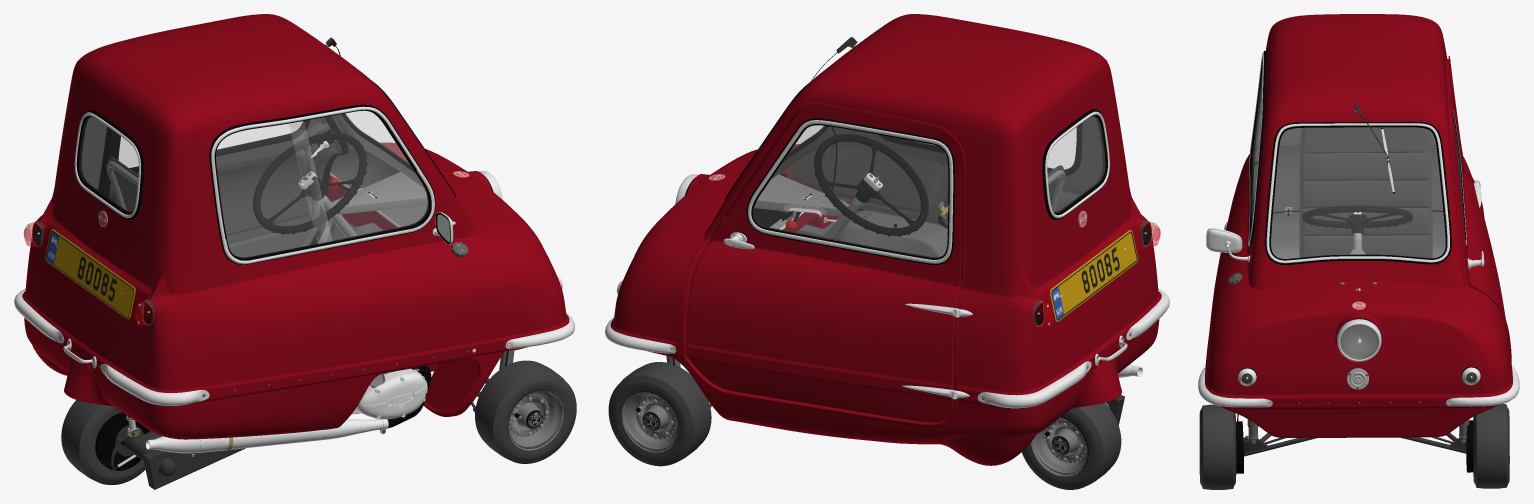
File: car.glb
The picture shows the model from 3 angles, left to right: view 1: azimuth 30°, elevation 25°; view 2: azimuth 150°, elevation 25°; view 3: azimuth 270°, elevation 25°; orthographic projection. The views are drawn at different scales.
Parts seen in each view (by area): view 1: body_a.002_42, peel side window glass _13, doorcardlf_a_33, overheadconsole_a_18, tirel_vintage_firestone_race.001_4, dashpad_a.001_34, glassr_a.001_23, steeringwheel_a.002_11, suspension_a_10, tirel_vintage_firestone_race.002_3, fplateeu_a_28, engine_a__slod_30 (+9 smaller); view 2: body_a.002_42, doorcardlf_a_33, doorcardlf_a.005_32, overheadconsole_a_18, tirel_vintage_firestone_race_5, dashpad_a.001_34, glassr_a.001_23, tirel_vintage_firestone_race.002_3, steeringwheel_a.002_11, fplateeu_a_28, pee_p50_62_wheellf02.001_16, pee_p50_62_wheellf02.003_14 (+5 smaller); view 3: body_a.002_42, glassf_a.002_26, seatl_a.002_12, overheadconsole_a_18, doorcardlf_a_33, tirel_vintage_firestone_race.001_4, tirel_vintage_firestone_race_5, steeringwheel_a.002_11, bumperf_a.002_37, suspension_a_10, headlightl_a.002_21, glasslhl_a.002_25 (+5 smaller).
Part boxes in pixels (<box>): body_a.002_42: <box>22,14,569,439</box>; peel side window glass _13: <box>216,111,428,257</box>; doorcardlf_a_33: <box>108,117,341,257</box>; overheadconsole_a_18: <box>79,113,428,258</box>; tirel_vintage_firestone_race.001_4: <box>475,360,576,463</box>; dashpad_a.001_34: <box>319,172,427,237</box>; glassr_a.001_23: <box>79,117,138,211</box>; steeringwheel_a.002_11: <box>253,132,367,234</box>; suspension_a_10: <box>111,350,514,489</box>; tirel_vintage_firestone_race.002_3: <box>61,400,150,484</box>; fplateeu_a_28: <box>45,229,135,319</box>; engine_a__slod_30: <box>352,365,431,427</box>; body_a.002_42: <box>610,14,1161,465</box>; doorcardlf_a_33: <box>686,108,961,422</box>; doorcardlf_a.005_32: <box>753,125,947,257</box>; overheadconsole_a_18: <box>771,116,1105,257</box>; tirel_vintage_firestone_race_5: <box>608,362,711,466</box>; dashpad_a.001_34: <box>754,168,861,239</box>; glassr_a.001_23: <box>1047,116,1105,212</box>; tirel_vintage_firestone_race.002_3: <box>1021,403,1121,489</box>; steeringwheel_a.002_11: <box>813,134,928,236</box>; fplateeu_a_28: <box>1050,229,1137,321</box>; pee_p50_62_wheellf02.001_16: <box>622,391,678,452</box>; pee_p50_62_wheellf02.003_14: <box>1031,416,1088,476</box>; body_a.002_42: <box>1205,14,1512,437</box>; glassf_a.002_26: <box>1271,127,1445,258</box>; seatl_a.002_12: <box>1299,127,1432,258</box>; overheadconsole_a_18: <box>1251,75,1445,258</box>; doorcardlf_a_33: <box>1453,109,1505,318</box>; tirel_vintage_firestone_race.001_4: <box>1199,404,1236,489</box>; tirel_vintage_firestone_race_5: <box>1473,404,1509,488</box>; steeringwheel_a.002_11: <box>1302,205,1412,239</box>; bumperf_a.002_37: <box>1198,365,1519,407</box>; suspension_a_10: <box>1237,414,1469,456</box>; headlightl_a.002_21: <box>1337,318,1381,361</box>; glasslhl_a.002_25: <box>1341,326,1377,358</box>.
Size of the model in its own units: 1.18 by 1.05 by 0.8879.
Materials: 100 (25 with a texture image).
